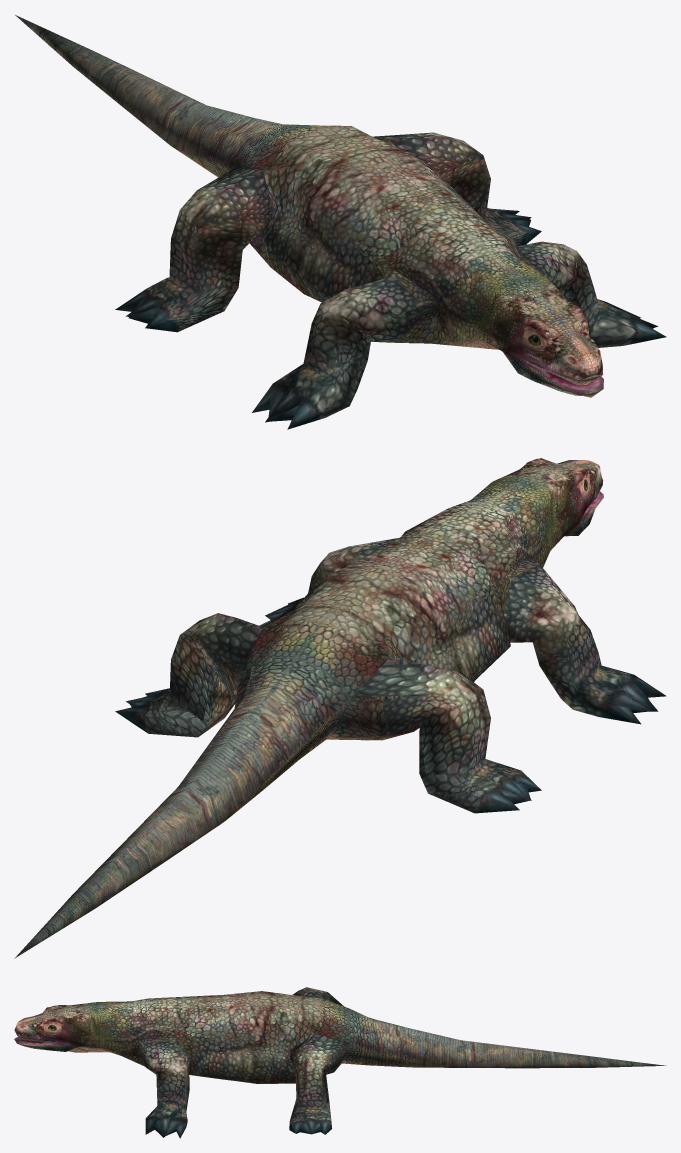
Rendered from adult.obj.
The picture shows the model from 3 angles, top to bottom: view 1: azimuth 30°, elevation 25°; view 2: azimuth 150°, elevation 25°; view 3: azimuth 270°, elevation 25°; orthographic projection. The views are drawn at different scales.
Parts seen in each view (by area): view 1: PolyMesh.001_PolyMesh.005, PolyMesh.000_PolyMesh.004, PolyMesh.003; view 2: PolyMesh.001_PolyMesh.005, PolyMesh.000_PolyMesh.004, PolyMesh.003; view 3: PolyMesh.001_PolyMesh.005, PolyMesh.000_PolyMesh.004, PolyMesh.003.
Boxes of the visible parts, x1,y1,x2,y2 form: PolyMesh.001_PolyMesh.005: (15, 15, 666, 429); PolyMesh.000_PolyMesh.004: (117, 102, 601, 404); PolyMesh.003: (128, 132, 655, 421); PolyMesh.001_PolyMesh.005: (14, 458, 666, 958); PolyMesh.000_PolyMesh.004: (143, 458, 601, 876); PolyMesh.003: (130, 463, 651, 804); PolyMesh.001_PolyMesh.005: (14, 987, 666, 1138); PolyMesh.000_PolyMesh.004: (26, 991, 539, 1120); PolyMesh.003: (15, 992, 371, 1136).
Size of the model in its own units: 1.19 by 0.4393 by 2.95.
3 materials, 3 textured.
